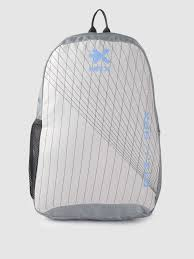backpack: (28, 8, 162, 221)
